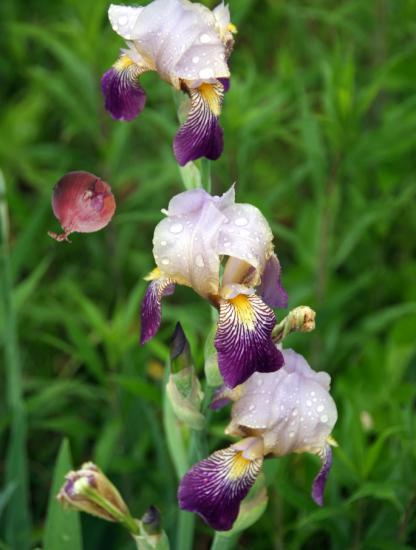Onion: (39, 167, 121, 249)
